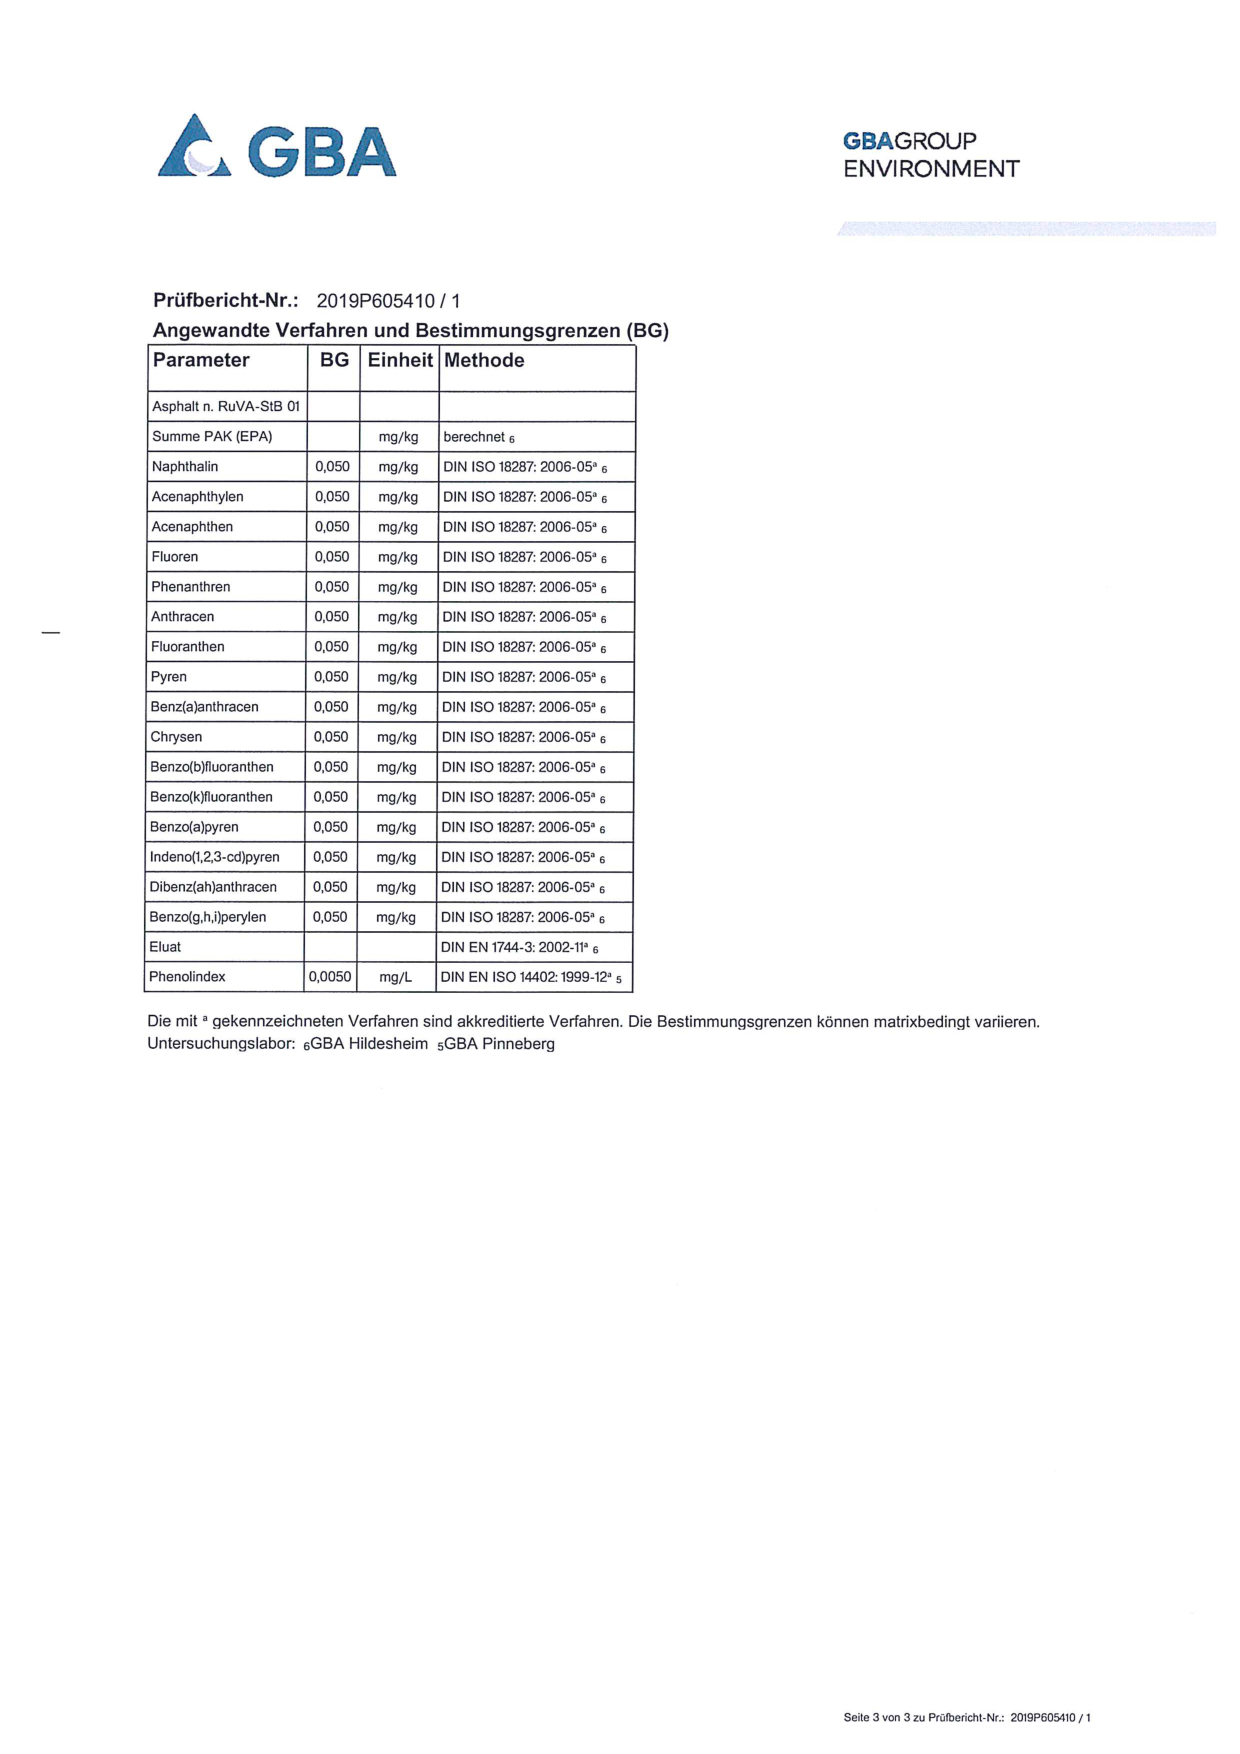table: (137, 342, 647, 1000)
